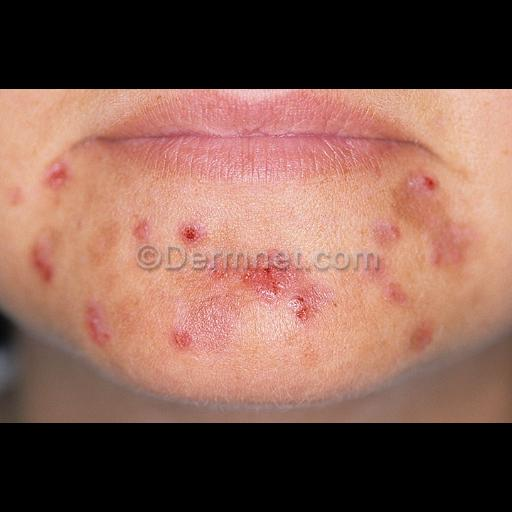Skin_Lesion: (366, 260, 414, 314), (171, 304, 219, 356), (426, 225, 478, 271), (250, 250, 298, 298), (26, 248, 70, 288), (82, 302, 116, 348), (410, 318, 438, 356), (38, 160, 76, 188), (416, 166, 442, 202), (291, 296, 317, 330), (177, 218, 205, 246), (374, 220, 404, 246), (130, 216, 156, 244), (80, 242, 108, 268), (9, 187, 27, 207), (72, 216, 86, 232)
